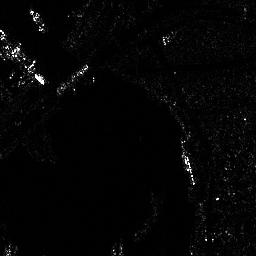ship: (57, 63, 89, 91)
